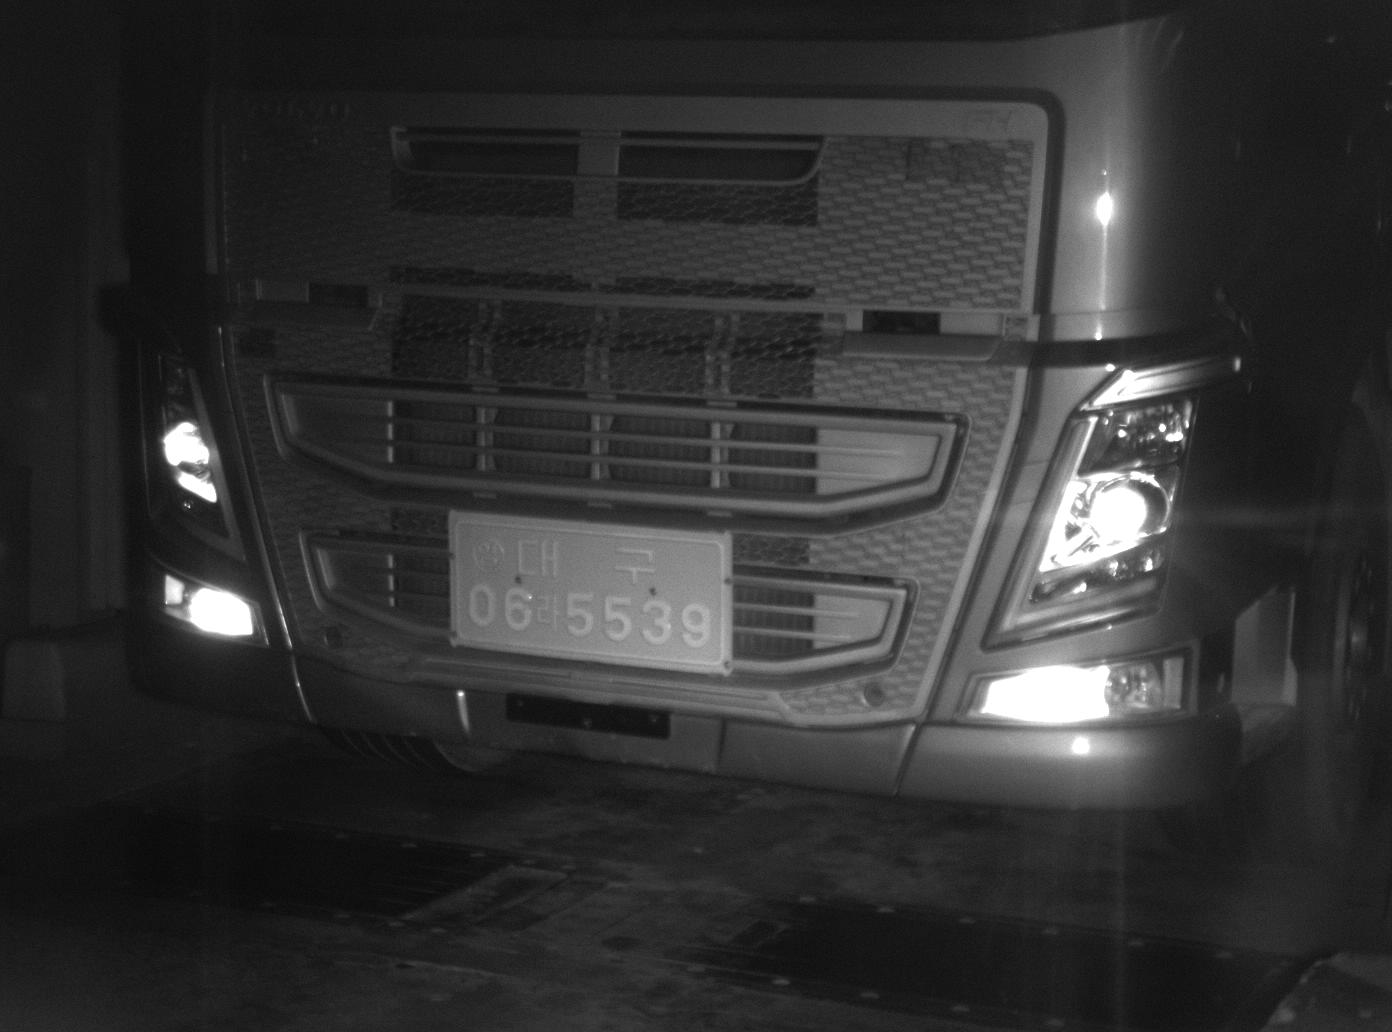car: (112, 1, 1390, 852)
plate: (445, 513, 731, 671)
